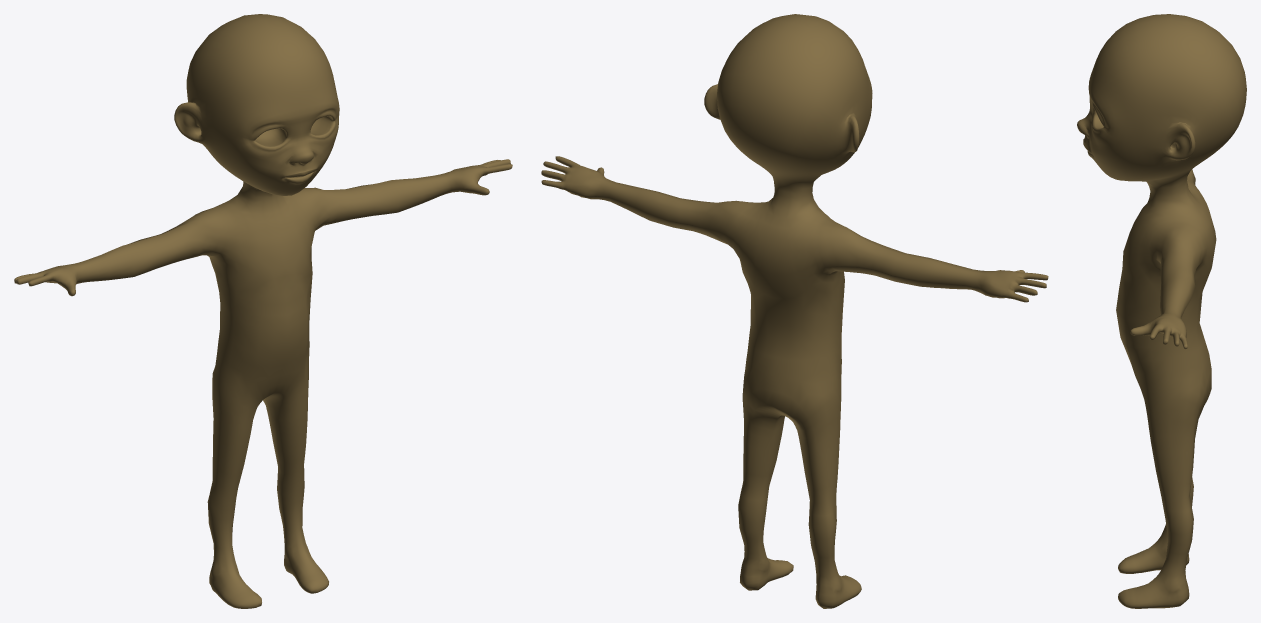
Rendered from YoungBrother_003.obj.
The picture shows the model from 3 angles, left to right: view 1: azimuth 30°, elevation 25°; view 2: azimuth 150°, elevation 25°; view 3: azimuth 270°, elevation 25°; orthographic projection.
Parts seen in each view (by area): view 1: LittleBoy_Body_Geo3_High LittleBoy_Geometry; view 2: LittleBoy_Body_Geo3_High LittleBoy_Geometry; view 3: LittleBoy_Body_Geo3_High LittleBoy_Geometry.
Part boxes in pixels (box(x1,y1,x2,y2)): LittleBoy_Body_Geo3_High LittleBoy_Geometry: box(14, 14, 512, 608); LittleBoy_Body_Geo3_High LittleBoy_Geometry: box(541, 14, 1048, 608); LittleBoy_Body_Geo3_High LittleBoy_Geometry: box(1077, 14, 1246, 608).
Size of the model in its own units: 41.07 by 44.92 by 12.19.
